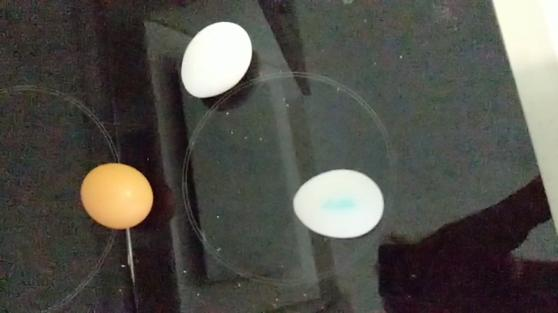egg: (289, 166, 385, 240), (179, 17, 253, 101), (79, 162, 157, 230)
